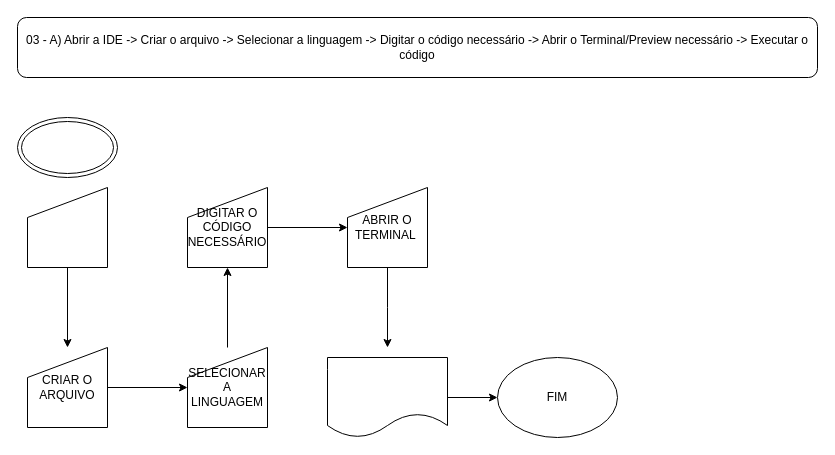
Some shapes in this 835 by 455 pixel diagram are drawn without their labels. The shapes that lost their labels are listed below. From the top down, each one's box as (x1, y1, x2, y2) in pixels, then its label:
(16, 116, 118, 178): INÍCIO
(26, 186, 108, 268): ABRIR A IDE
(326, 356, 448, 438): EXECUTAR O CÓDIGO
